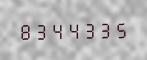eight: (17, 20, 32, 40)
five: (113, 19, 128, 39)
four: (49, 20, 64, 40), (65, 20, 80, 39)
three: (33, 20, 48, 40), (81, 19, 96, 39), (97, 19, 112, 39)
